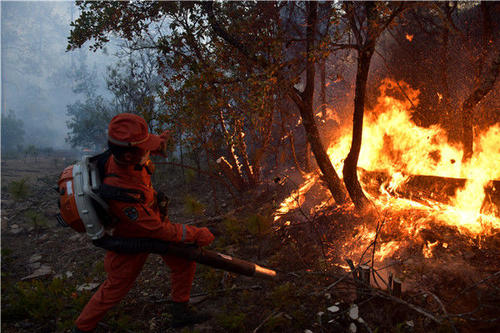fire: (360, 110, 500, 256), (276, 173, 315, 213), (328, 129, 352, 174)
